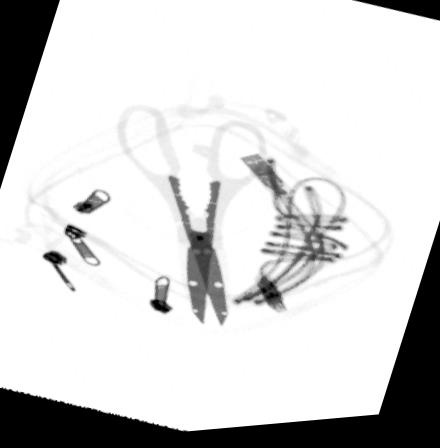Scissors: (115, 107, 268, 332)
